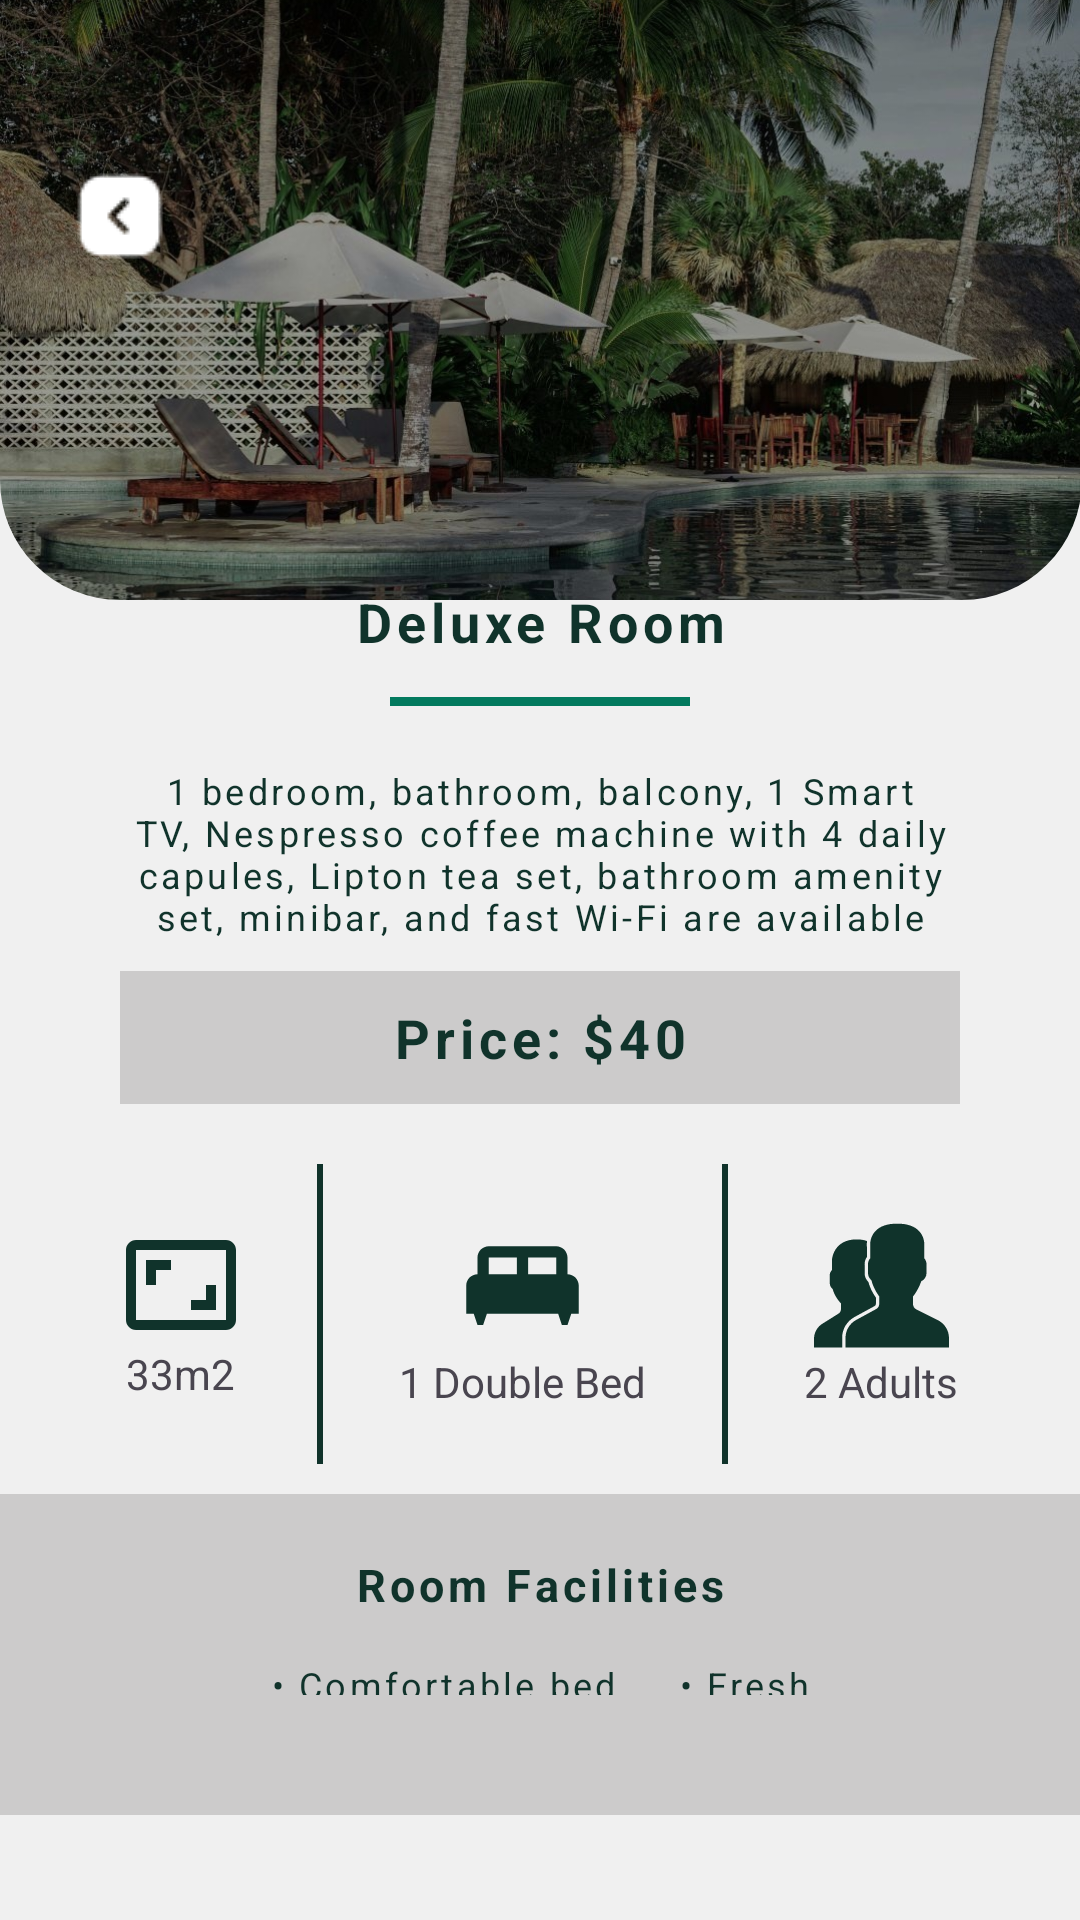

Screen size 1080*1920. Icon name, then its center in pixels as (x,y):
back: (120,216)
dimensions: (181,1285)
users: (881,1285)
